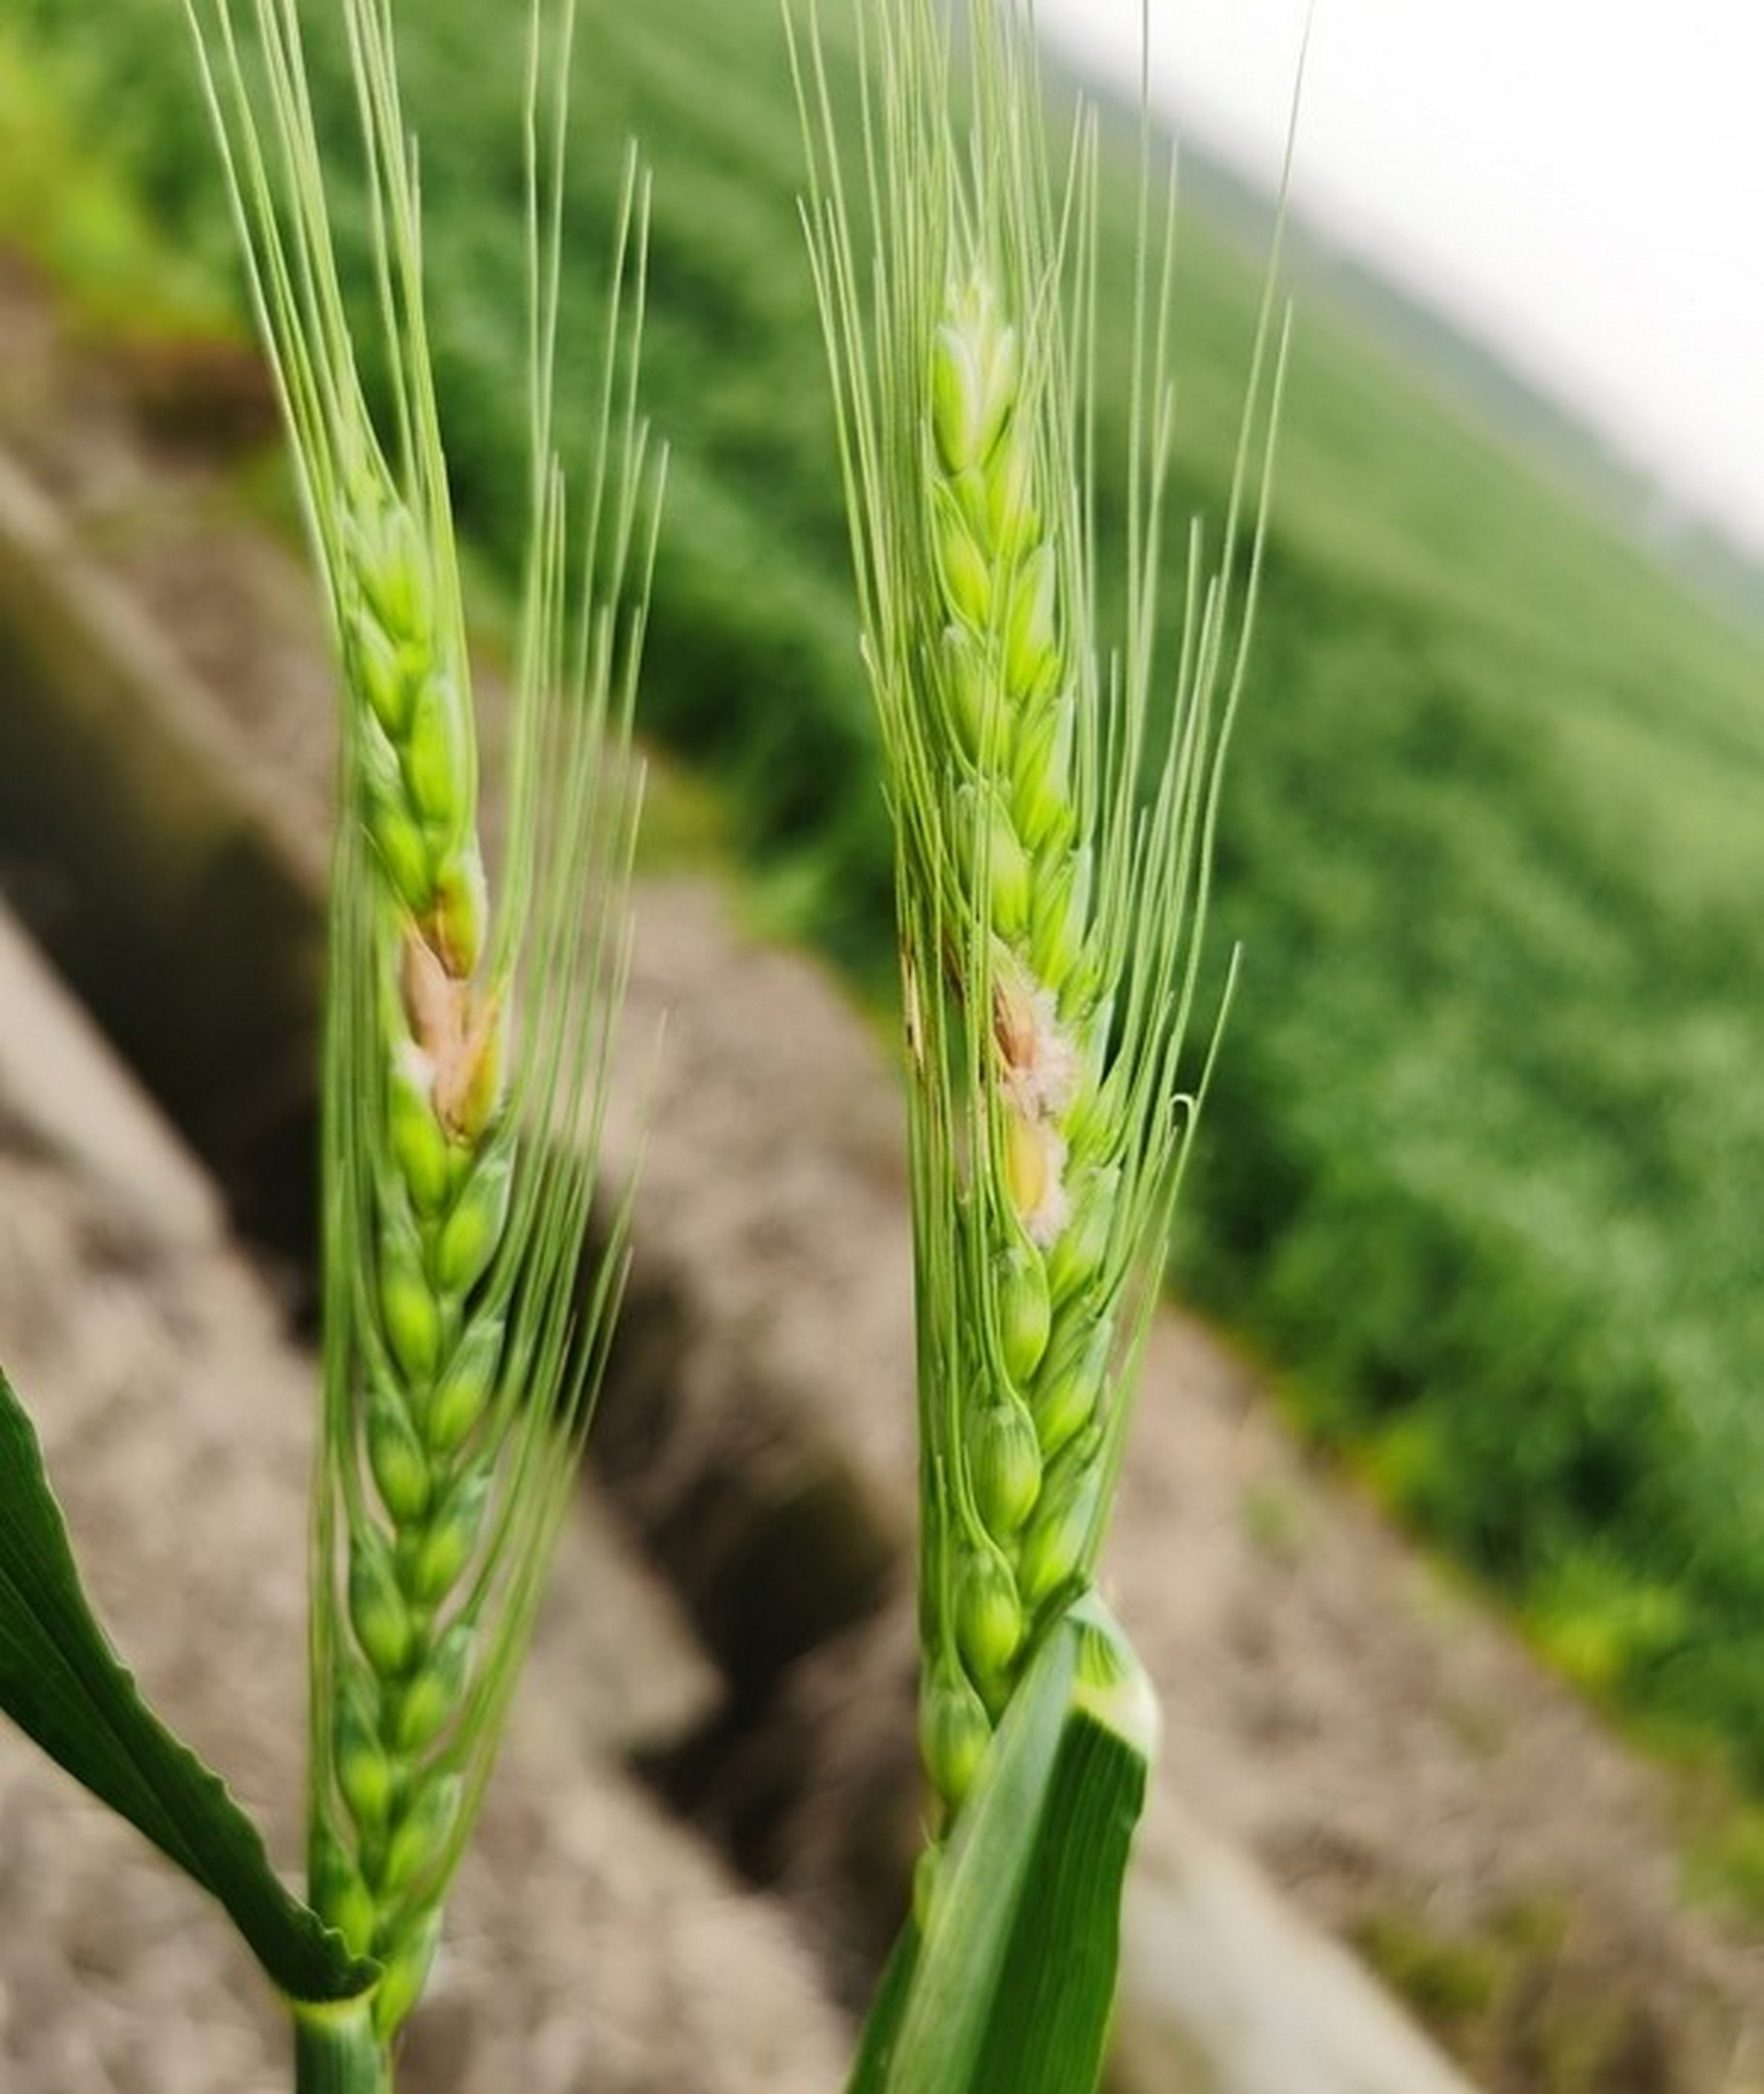Wheat scab: (815, 205, 1244, 1767), (229, 396, 548, 1933)
